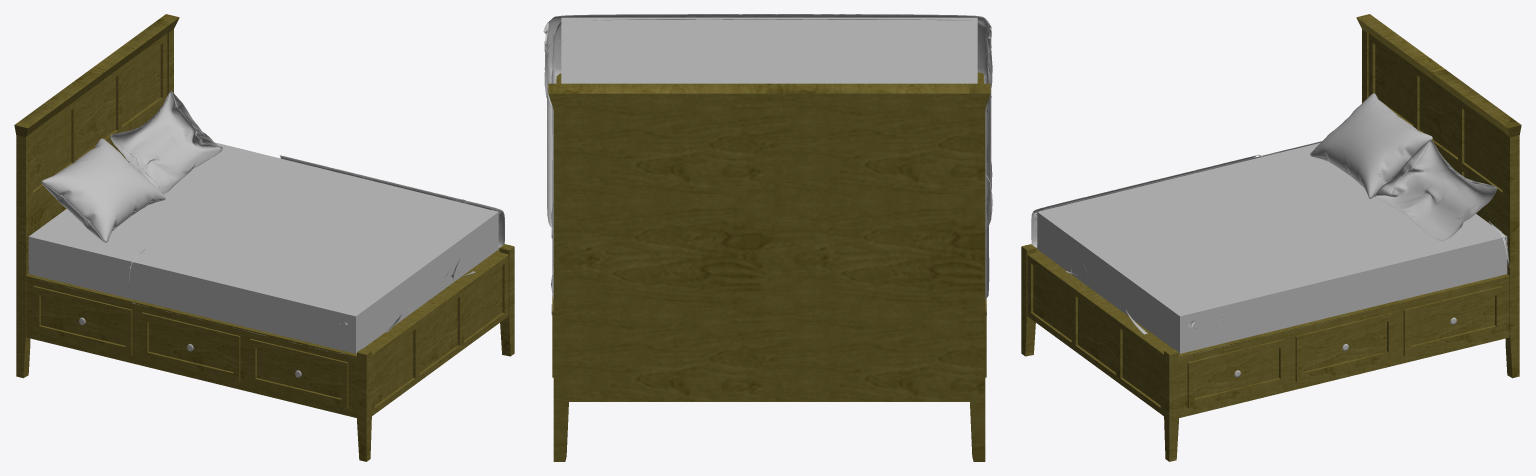
File: bed.glb
The picture shows the model from 3 angles, left to right: view 1: azimuth 30°, elevation 25°; view 2: azimuth 150°, elevation 25°; view 3: azimuth 270°, elevation 25°; orthographic projection. The views are drawn at different scales.
Visible parts, largest first — view 1: cloth_obj, wood_obj; view 2: wood_obj, cloth_obj; view 3: cloth_obj, wood_obj.
Boxes of the visible parts, x1,y1,x2,y2 form: cloth_obj: (28,90,504,355); wood_obj: (14,14,514,461); wood_obj: (548,72,990,461); cloth_obj: (543,14,992,299); cloth_obj: (1031,93,1509,356); wood_obj: (1021,14,1521,461).
Size of the model in its own units: 0.00233 by 0.00141 by 0.00253.
Materials: 3 (1 with a texture image).
